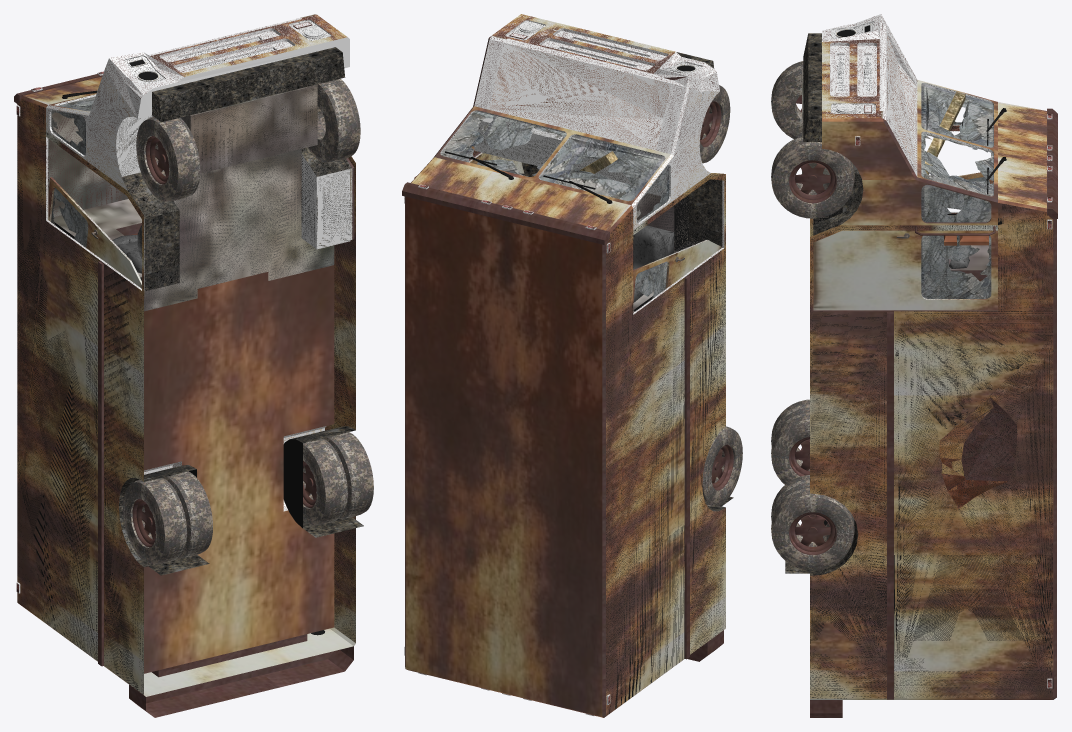
The model's file is van~.dae.
3 views of the same model, side by side, from view 1: azimuth 30°, elevation 25°; view 2: azimuth 150°, elevation 25°; view 3: azimuth 270°, elevation 25° (orthographic). The views are drawn at different scales.
Parts seen in each view (by area): view 1: group_0 (×19), Tyre (×6), group_3 (×2), group_1, Group_3, Group_141 (×2), Group_2, Group_6 (×2), Group_4 (×2), group_2, Group_7; view 2: group_0 (×12), Group_7 (×2), Group_1, Tyre (×2), Group_2, Group_141 (×2), Group_6 (×2), Group_142, Group_4 (×2); view 3: group_0 (×11), Group_141 (×3), Tyre (×6), Group_7 (×3), Component_2 (×2), Group_4 (×3), Group_2, Group_6 (×2), Group_1, group_5, group_1.
Boxes of the visible parts, x1,y1,x2,y2 form: group_0 (×19): (17,14,363,696); Tyre (×6): (123,78,373,564); group_3 (×2): (116,84,317,176); group_1: (129,646,353,717); Group_3: (48,112,123,216); Group_141 (×2): (48,178,141,288); Group_2: (98,261,103,666); Group_6 (×2): (159,28,295,72); Group_4 (×2): (132,136,169,547); group_2: (151,634,307,677); Group_7: (51,110,85,155); group_0 (×12): (405,14,725,717); Group_7 (×2): (440,111,665,201); Group_1: (402,182,609,245); Tyre (×2): (699,85,742,506); Group_2: (684,275,689,659); Group_141 (×2): (633,240,721,312); Group_6 (×2): (539,28,668,70); Group_142: (633,225,674,302); Group_4 (×2): (700,101,733,490); group_0 (×11): (803,14,1056,699); Group_141 (×3): (813,177,997,310); Tyre (×6): (771,61,854,570); Group_7 (×3): (921,84,993,222); Component_2 (×2): (939,398,1017,508); Group_4 (×3): (789,160,836,555); Group_2: (887,312,893,699); Group_6 (×2): (830,42,876,96); Group_1: (1047,108,1057,218); group_5: (925,91,965,174); group_1: (810,700,842,717).
Bounding box in the file's own units: 106 × 115 × 270.
